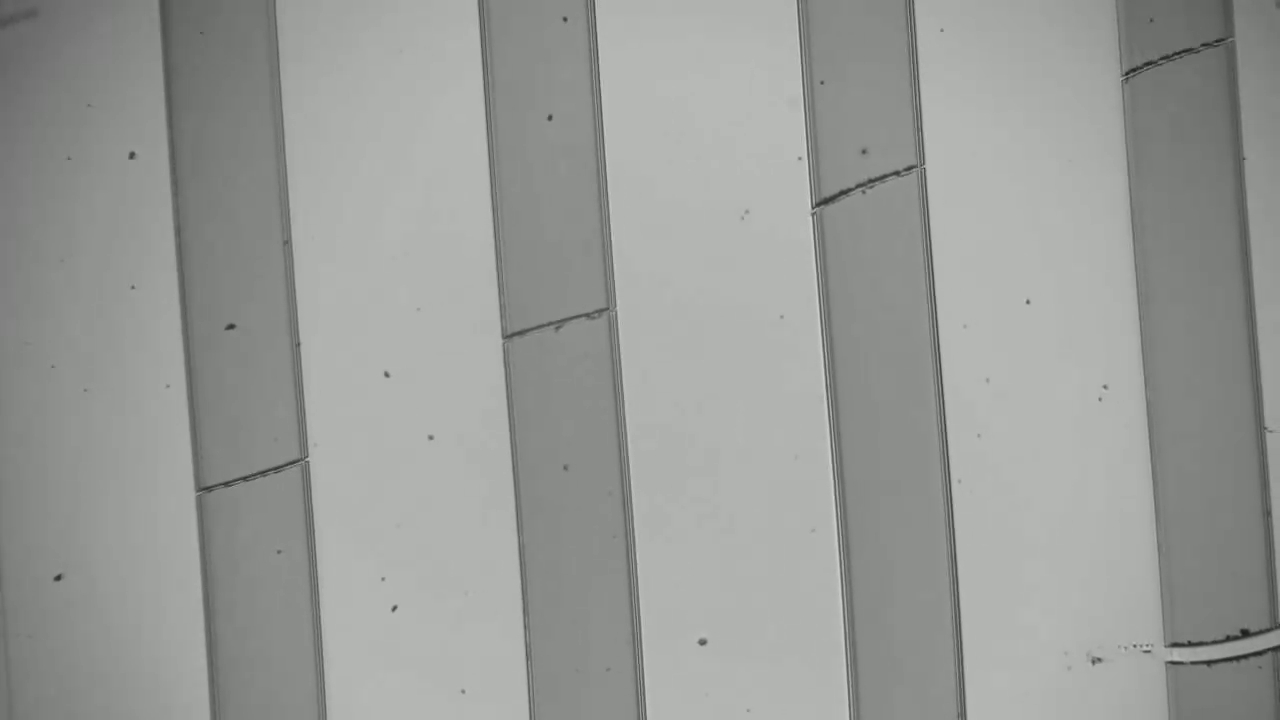Short_circuit: (1136, 608, 1280, 675)
scratch: (205, 448, 300, 498), (822, 159, 906, 212), (510, 296, 597, 345), (1132, 32, 1219, 81)
